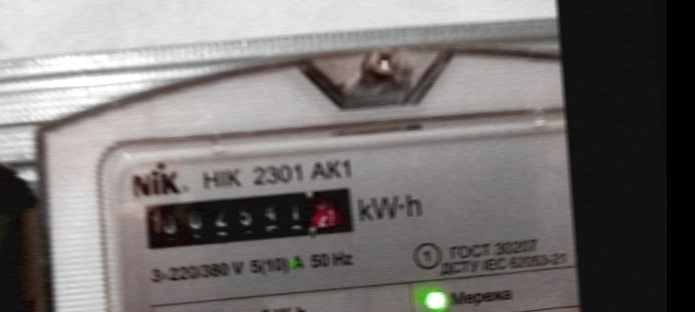0: (158, 208, 178, 235), (185, 203, 201, 231)
1: (285, 194, 300, 221)
2: (209, 201, 227, 227)
4: (261, 196, 276, 220)
5: (234, 198, 254, 227)
6: (313, 208, 330, 227)
screen: (130, 172, 368, 260)
